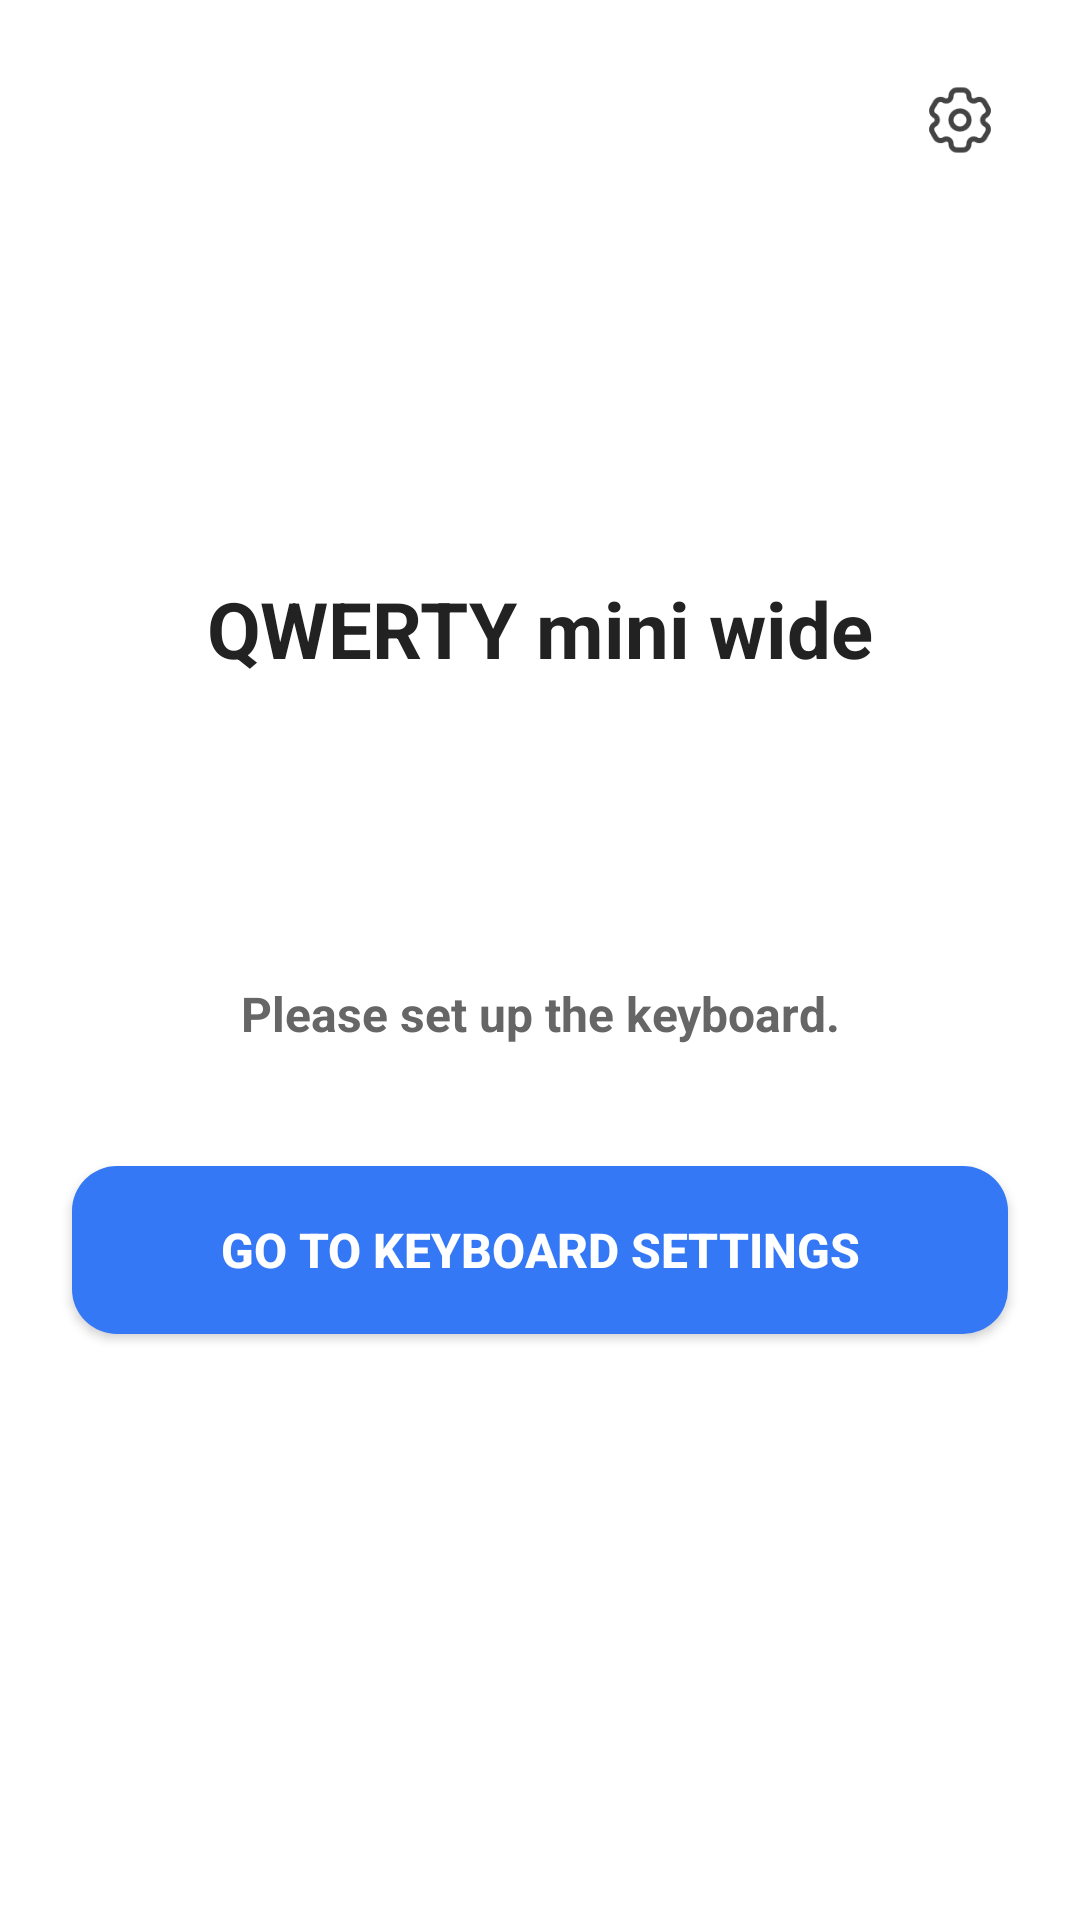

Where icons sit on this 1080 × 1920 app screen, as (x1, y1, x2, y2):
settings: (929, 87, 991, 153)
